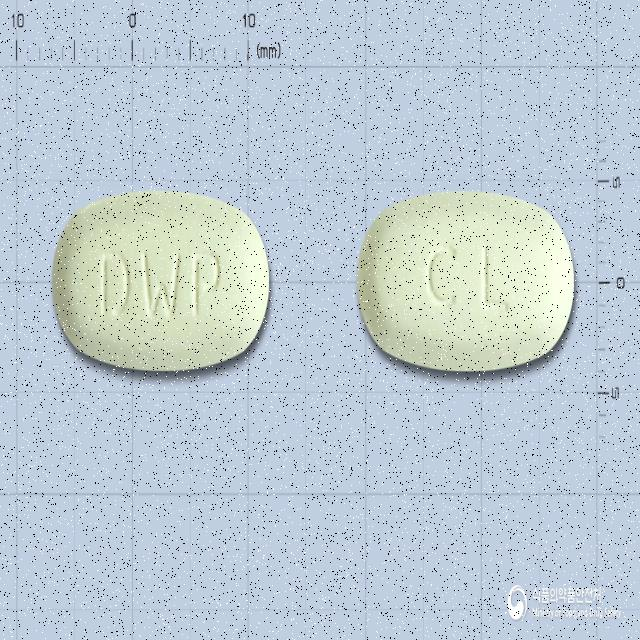Clacin: (49, 184, 275, 380), (353, 188, 578, 376)
